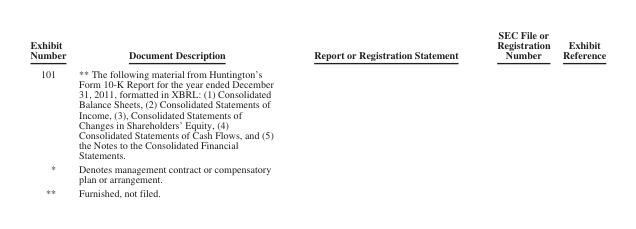table: (29, 28, 605, 198)
table column: (71, 28, 293, 198), (293, 28, 476, 198), (476, 28, 555, 198), (555, 28, 605, 198), (29, 28, 71, 198)
table column header: (29, 28, 605, 64)
table row: (29, 64, 605, 161), (29, 28, 605, 64), (29, 161, 605, 185), (29, 185, 605, 198)
